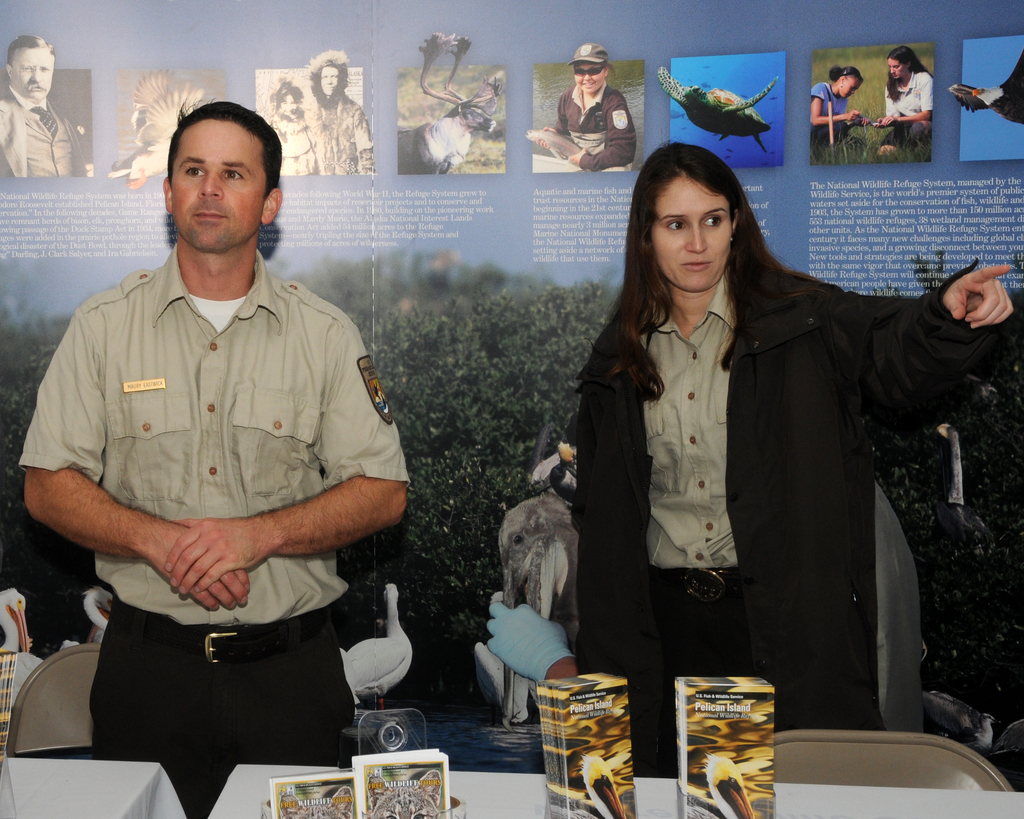Sea turtles: (648, 65, 780, 150)
